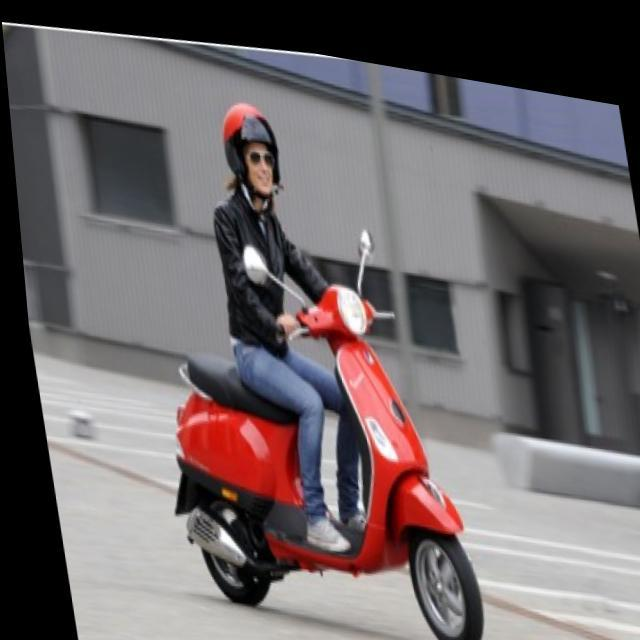Helmet: (218, 95, 288, 210)
